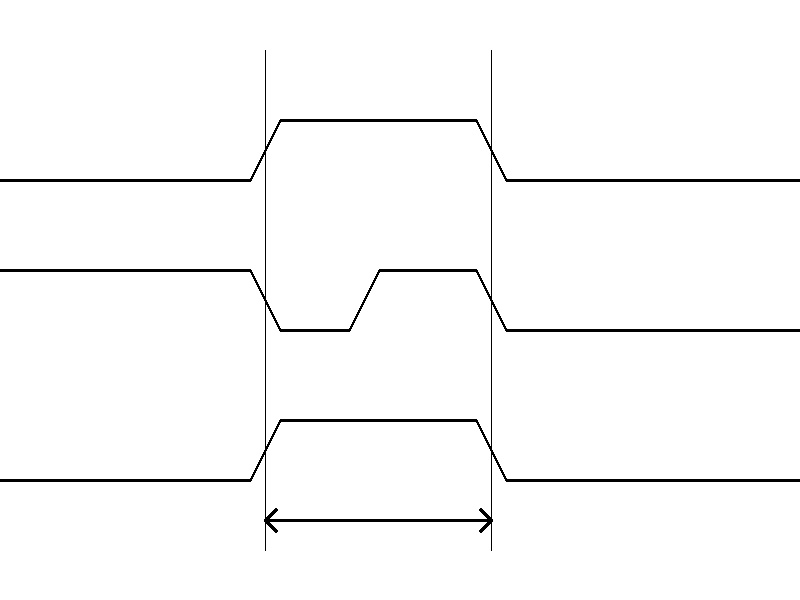double_arrow: (265, 505, 491, 535)
